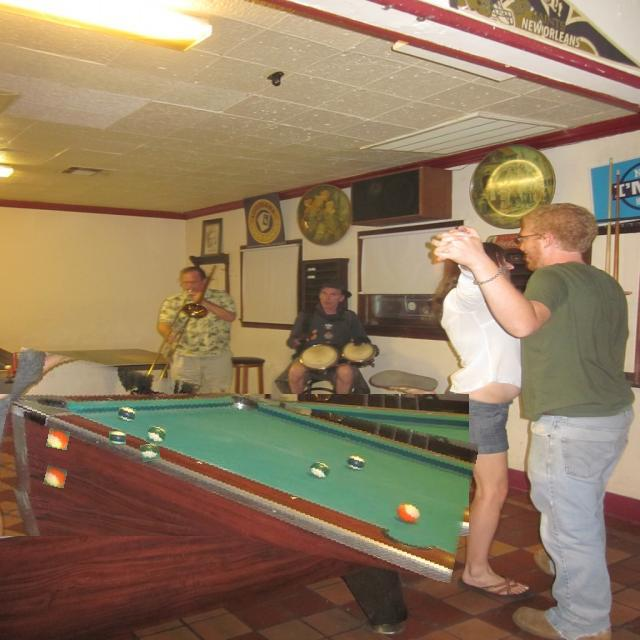Ball: (44, 466, 67, 487), (141, 443, 161, 462), (109, 431, 126, 445)
Billiard table: (0, 370, 473, 559)
